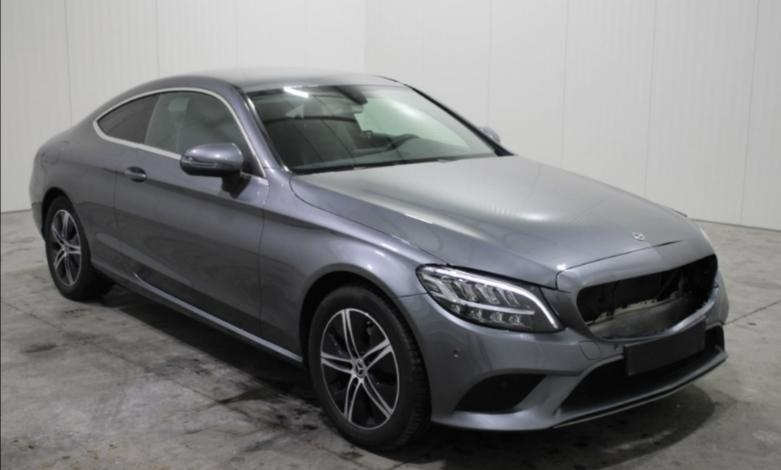Missing part: (577, 254, 717, 337), (624, 319, 704, 367)
